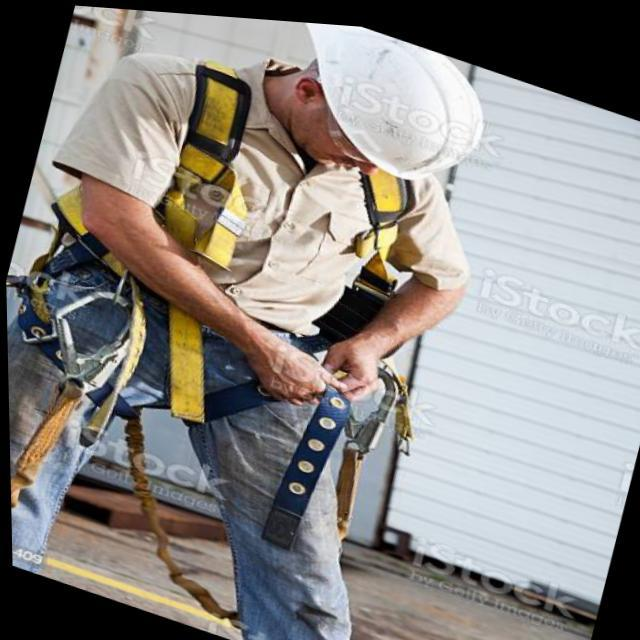belt: (1, 3, 480, 511)
